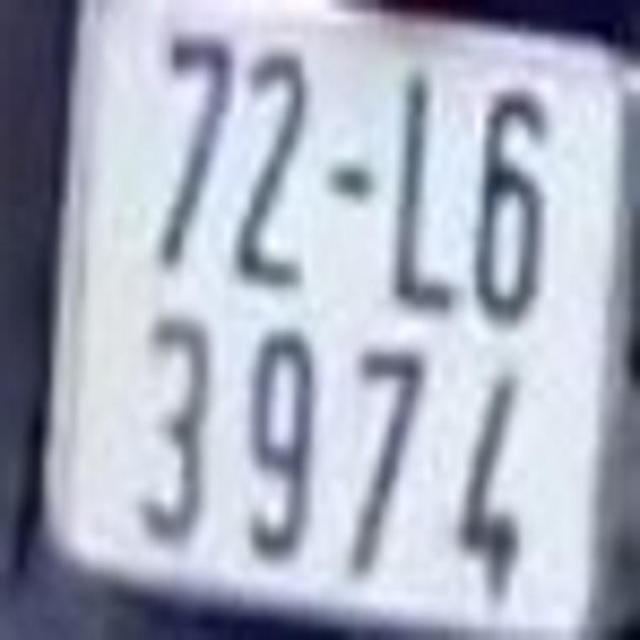2: (240, 50, 308, 280)
3: (142, 311, 212, 540)
4: (456, 373, 533, 618)
6: (476, 88, 550, 322)
7: (347, 352, 424, 577), (164, 31, 232, 272)
9: (246, 325, 318, 560)
L: (393, 72, 465, 314)
